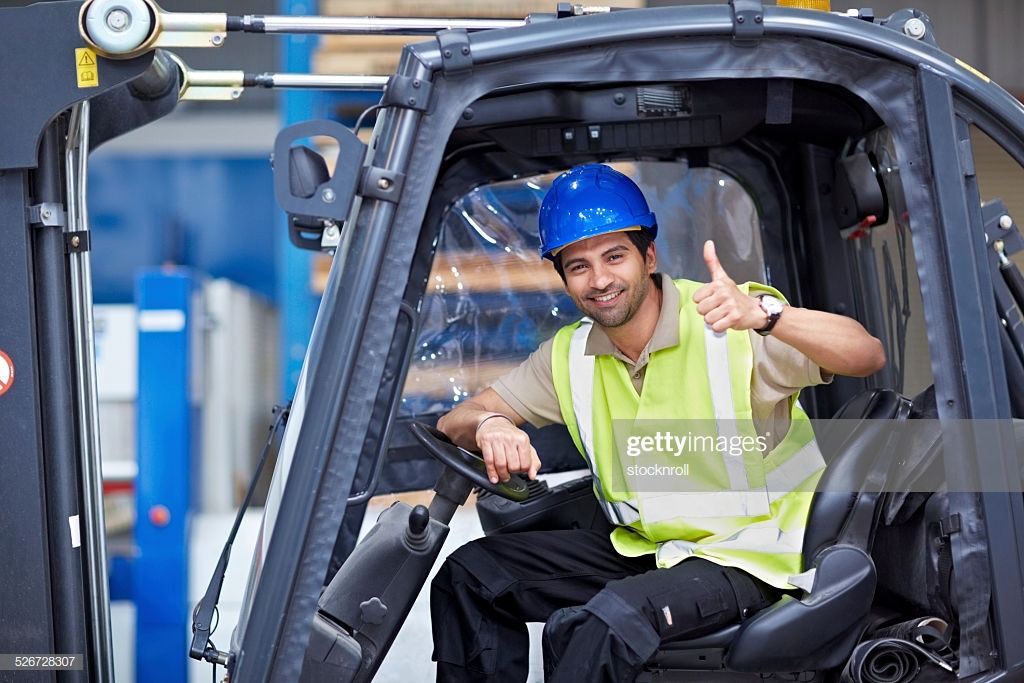thumbsup: (693, 240, 743, 333)
